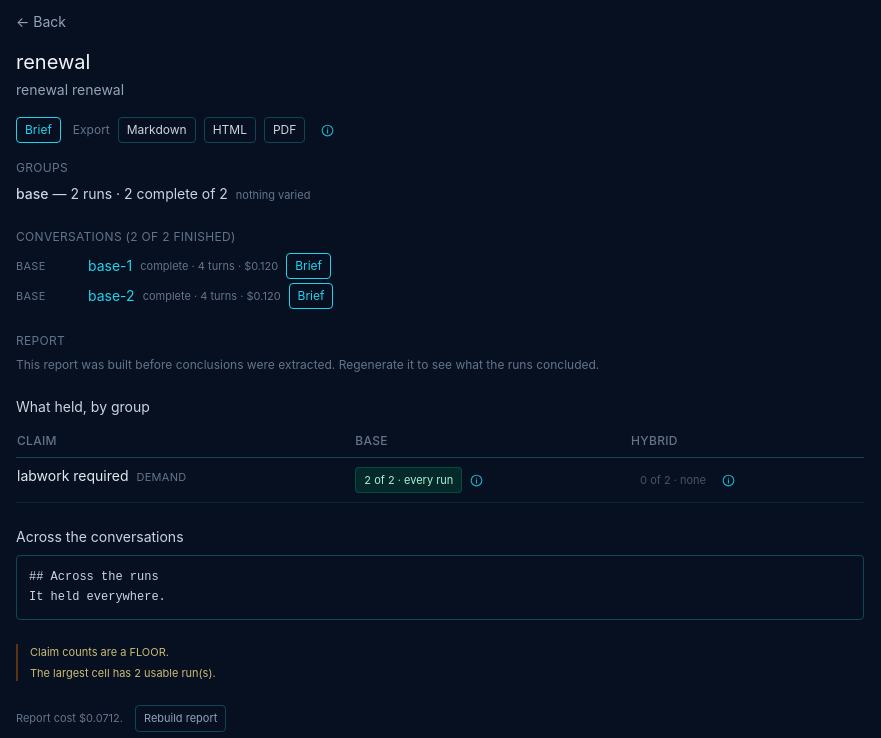
EnsembleView › says a rebuild is in flight, and that the report on screen is the old one
The image size is (881, 738).
Expected: the text "labwork required" is shown, [17,467,128,484]
Click the button "Rebuild report".
click(181, 718)  # box [135,705,226,732]
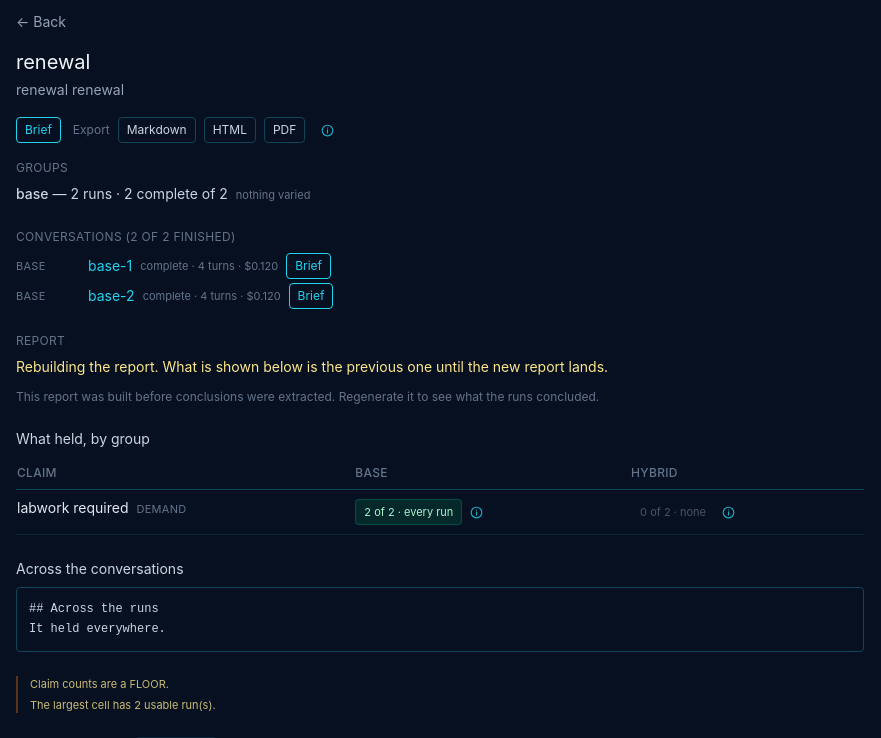
Result: the text "previous one until the new report lands" is shown at [16,358,608,375]
